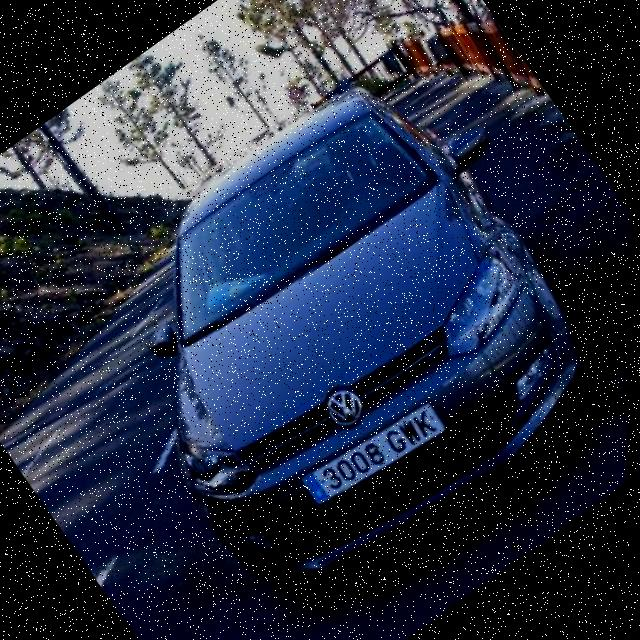license_plate: (304, 392, 451, 514)
